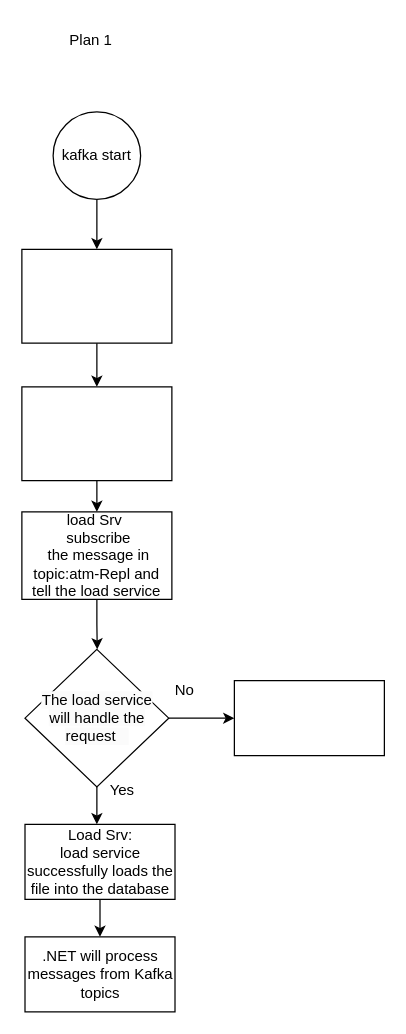
Some shapes in this 406 by 1034 pixel diagram are drawn without their labels. Here are the shapes that lost their labels. From the top down, the box of each, then its label:
(21, 248, 172, 343): Email srv: Read emails and save the files in particular path
(21, 386, 172, 481): Producer sends the message to topic: atm-Repl
(233, 679, 384, 756): fail
